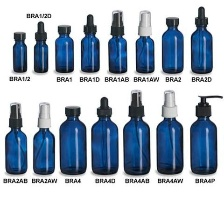bottle: (87, 107, 122, 175), (187, 103, 220, 175), (120, 105, 153, 177), (153, 106, 186, 175), (57, 102, 88, 175), (189, 2, 216, 77), (29, 114, 58, 175), (105, 6, 129, 78), (159, 14, 186, 76), (2, 118, 29, 178), (132, 8, 156, 75), (77, 12, 99, 75), (52, 20, 75, 75), (30, 18, 49, 76), (10, 29, 28, 74)
